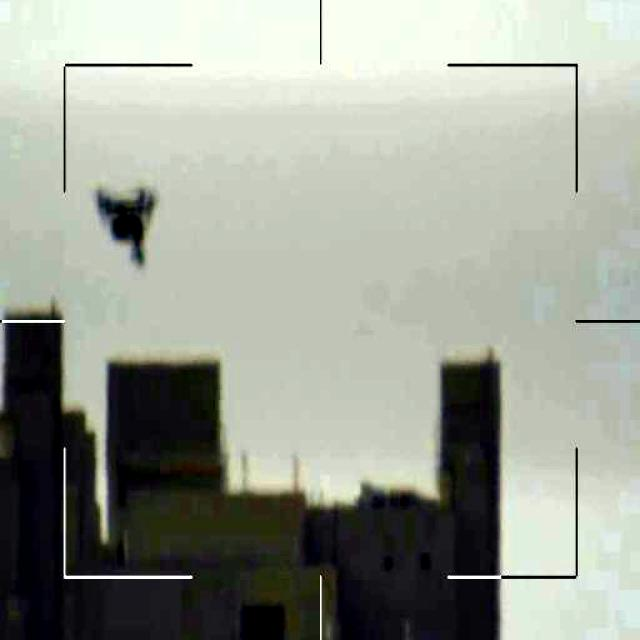bird: (96, 178, 158, 270)
